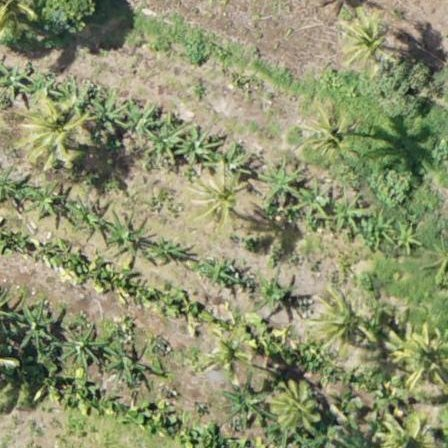palm_tree: (21, 101, 91, 169), (309, 287, 375, 350), (190, 168, 255, 229), (338, 14, 397, 73), (393, 333, 448, 388), (269, 379, 323, 429)
